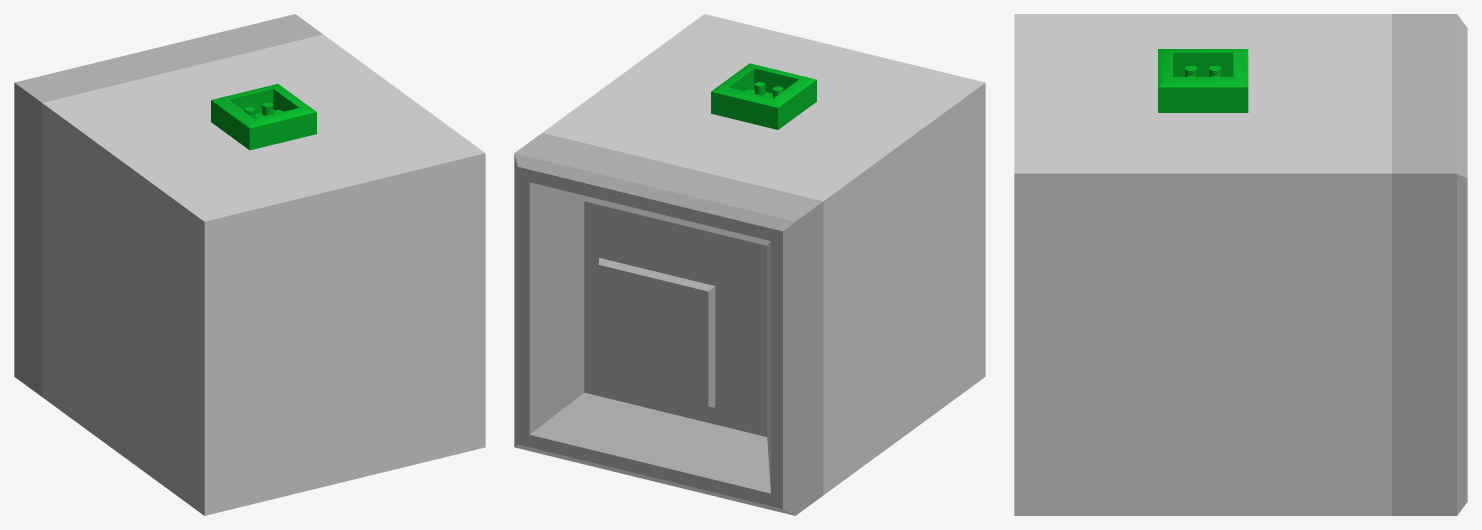
The model's file is InfiniteItems.gltf.
3 renders of one model, left to right at view 1: azimuth 30°, elevation 25°; view 2: azimuth 150°, elevation 25°; view 3: azimuth 270°, elevation 25°, orthographic. The views are drawn at different scales.
Visible parts, largest first — view 1: Cube; view 2: Cube; view 3: Cube.
Part boxes in pixels (x1,y1,x2,y2): Cube: (14,14,485,515); Cube: (514,14,985,515); Cube: (1014,14,1467,515).
Bounding box in the file's own units: 0.25 × 0.2706 × 0.3.
